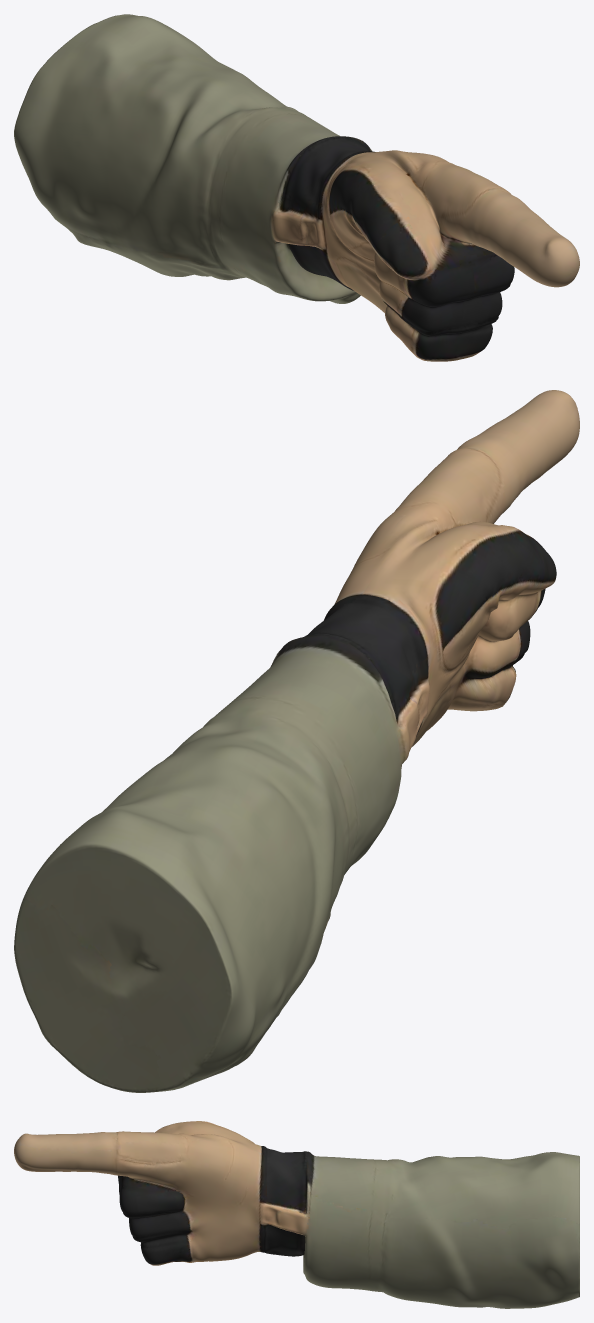
File: handR.lo.glb
3 views of the same model, one above another, from view 1: azimuth 30°, elevation 25°; view 2: azimuth 150°, elevation 25°; view 3: azimuth 270°, elevation 25° (orthographic). The views are drawn at different scales.
Visible parts, largest first — view 1: model; view 2: model; view 3: model.
Boxes of the visible parts, x1,y1,x2,y2 form: model: [14, 14, 579, 361]; model: [14, 390, 579, 1092]; model: [14, 1121, 579, 1308].
Size of the model in its own units: 0.4898 by 0.6833 by 1.9.
Materials: 1 (1 with a texture image).
